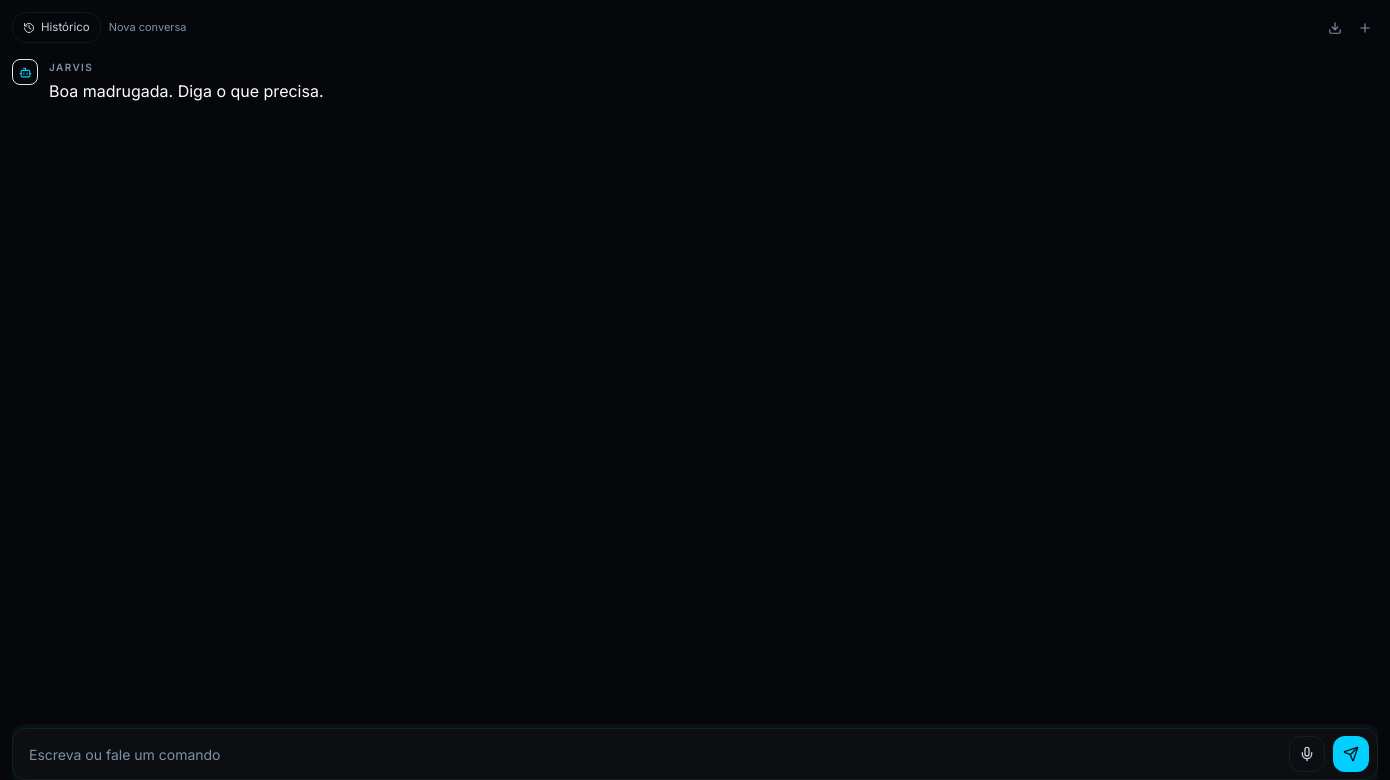
Test case: histórico › o botão abre e fecha o painel
Click the button with aria-label "Histórico de conversas": (56, 28) [12,12,101,43]
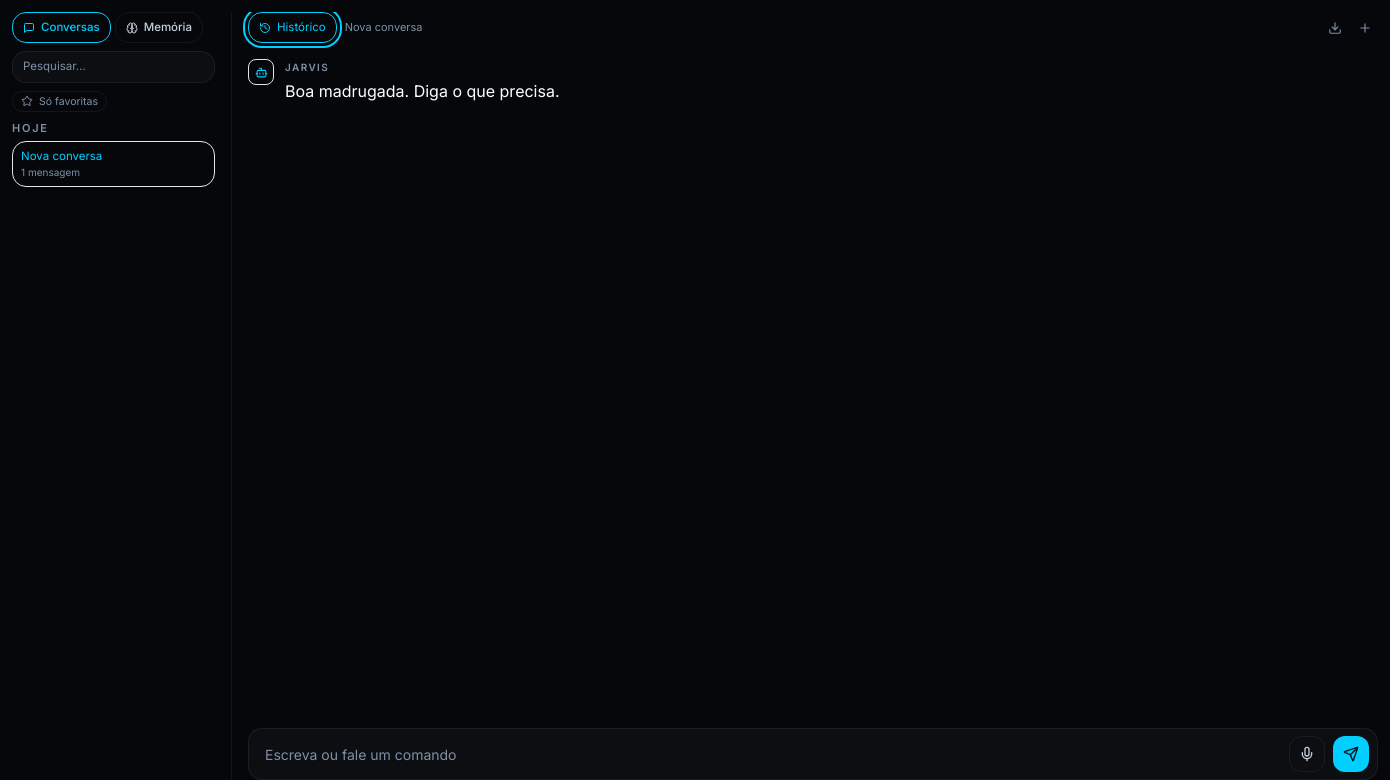
Expected: the tab "Conversas" is shown, [12,12,111,43]
Click the button with aria-label "Histórico de conversas": (292, 28) [248,12,337,43]
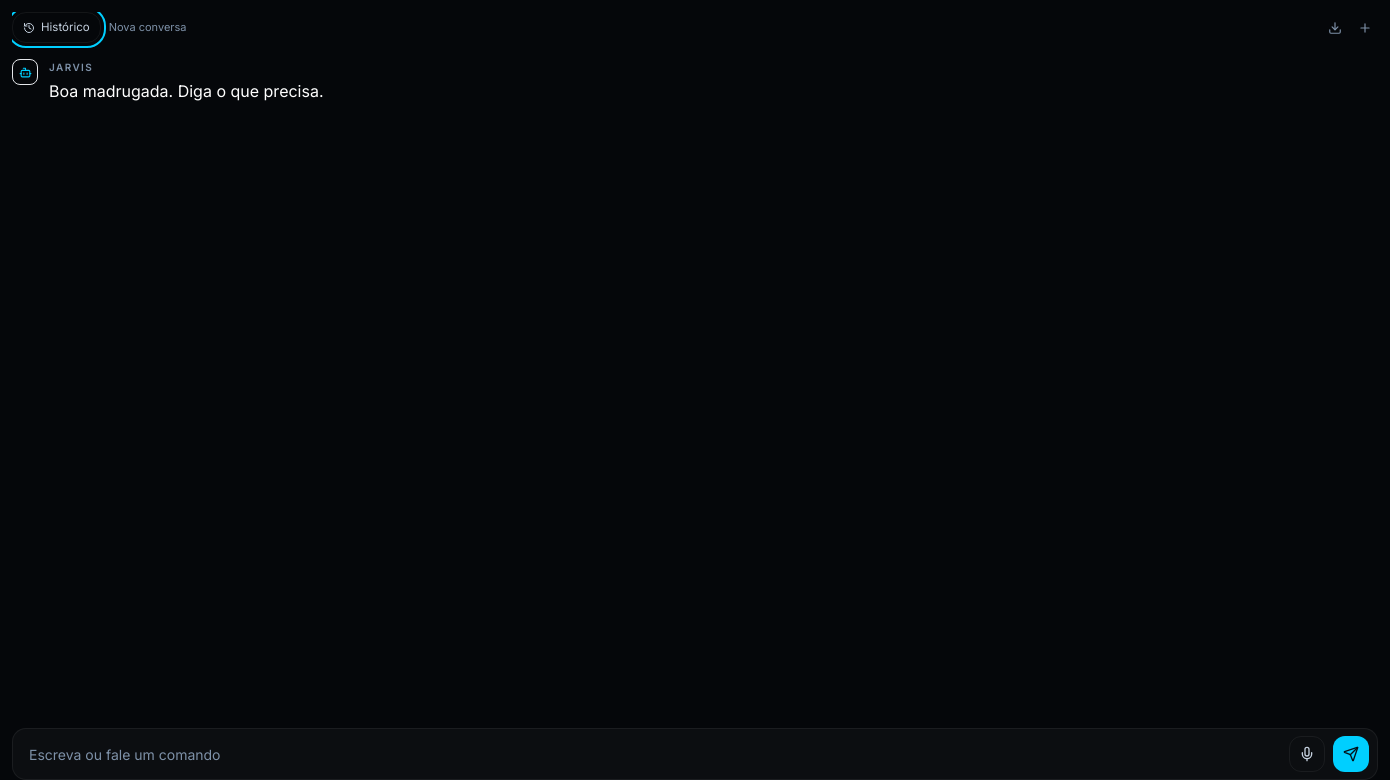
Expected: the tab "Conversas" is gone
